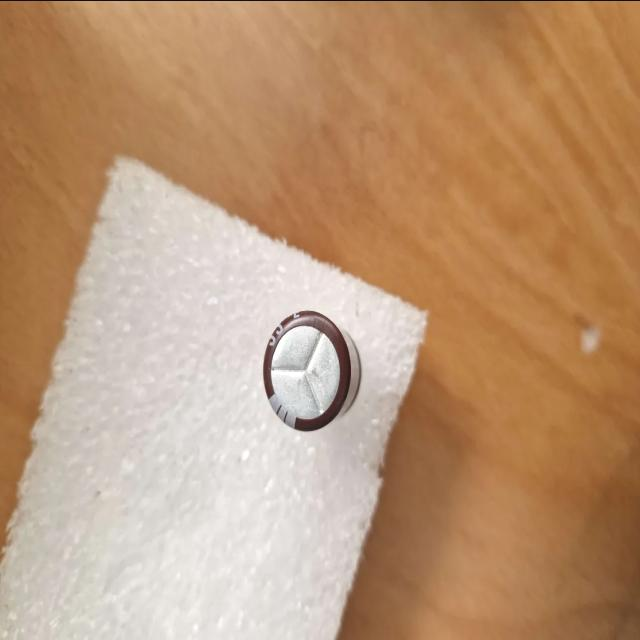C: (264, 309, 362, 429)
